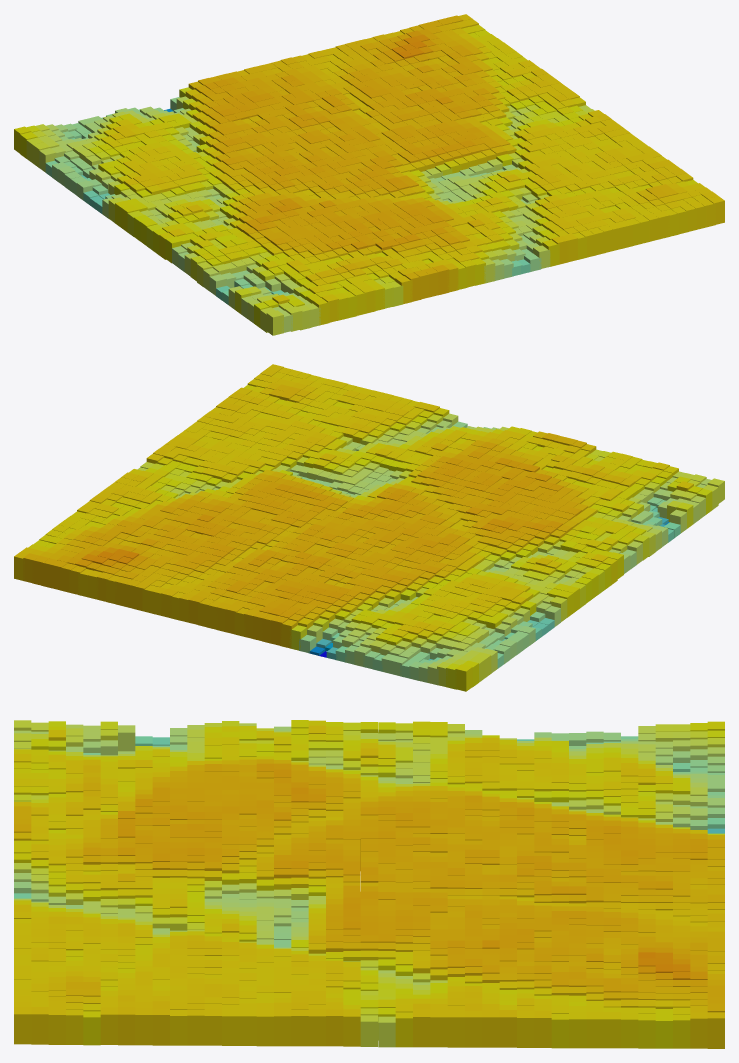
File: population.glb
3 views of the same model, one above another, from view 1: azimuth 30°, elevation 25°; view 2: azimuth 150°, elevation 25°; view 3: azimuth 270°, elevation 25° (orthographic). The views are drawn at different scales.
Visible parts, largest first — view 1: population; view 2: population; view 3: population.
Boxes of the visible parts, x1=… form: population: x1=14, y1=14, x2=724, y2=335; population: x1=14, y1=364, x2=724, y2=691; population: x1=14, y1=720, x2=724, y2=1048.
Bounding box in the file's own units: 4139 × 253 × 4103.
